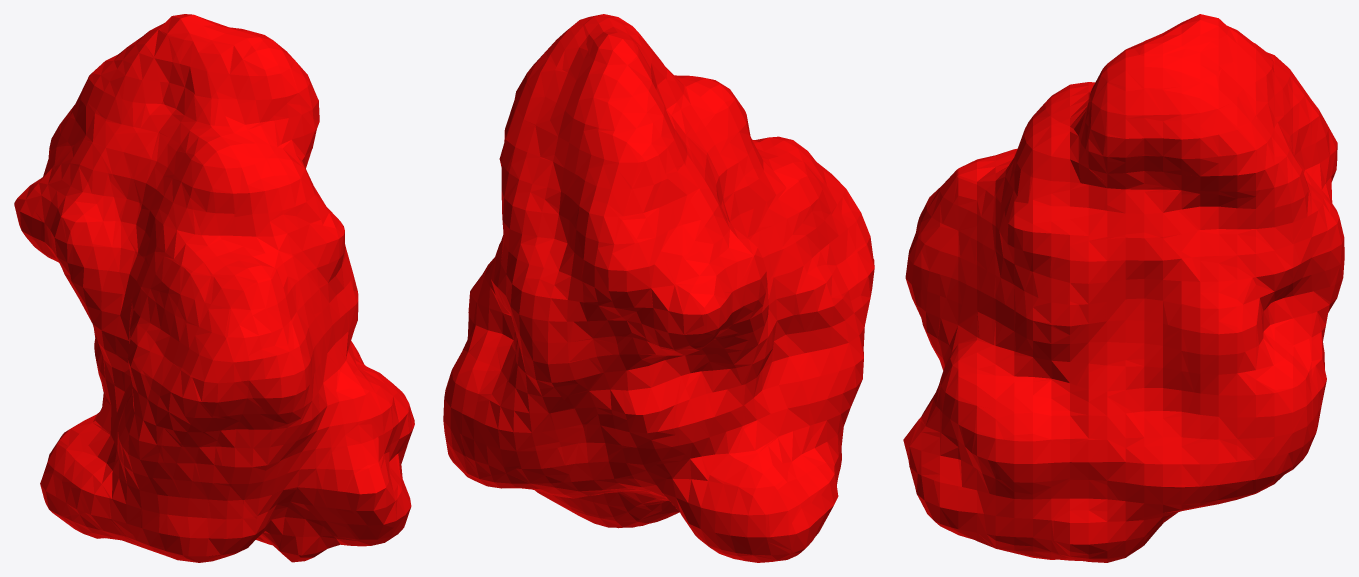
File: menF_coarse.dae
The picture shows the model from 3 angles, left to right: view 1: azimuth 30°, elevation 25°; view 2: azimuth 150°, elevation 25°; view 3: azimuth 270°, elevation 25°; orthographic projection. The views are drawn at different scales.
Visible parts, largest first — view 1: menF; view 2: menF; view 3: menF.
Boxes of the visible parts, x1,y1,x2,y2 form: menF: [14, 14, 414, 562]; menF: [443, 14, 874, 562]; menF: [903, 14, 1344, 562].
Size of the model in its own units: 47.71 by 74.79 by 58.62.
